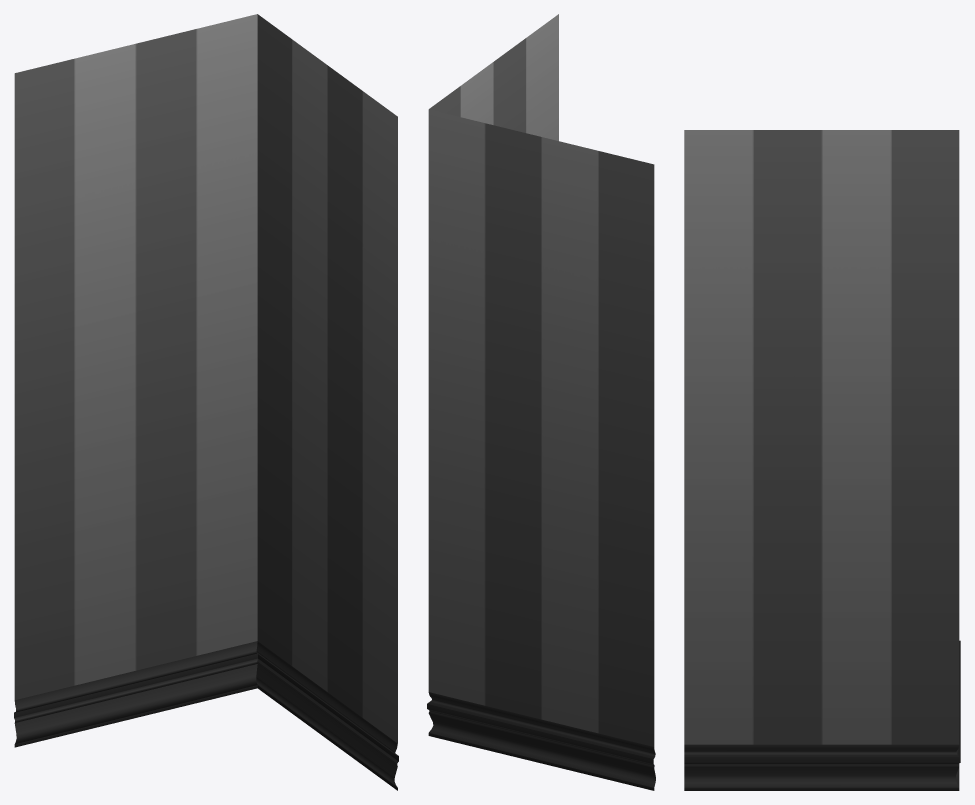
Rendered from Wall_03_Int.fbx.
The picture shows the model from 3 angles, left to right: view 1: azimuth 30°, elevation 25°; view 2: azimuth 150°, elevation 25°; view 3: azimuth 270°, elevation 25°; orthographic projection. The views are drawn at different scales.
Visible parts, largest first — view 1: Wall_03_Int; view 2: Wall_03_Int; view 3: Wall_03_Int.
Part boxes in pixels (bbox=[...]): Wall_03_Int: bbox=[14, 14, 398, 790]; Wall_03_Int: bbox=[427, 14, 655, 790]; Wall_03_Int: bbox=[684, 130, 960, 790].
Size of the model in its own units: 1 by 2.65 by 1.
